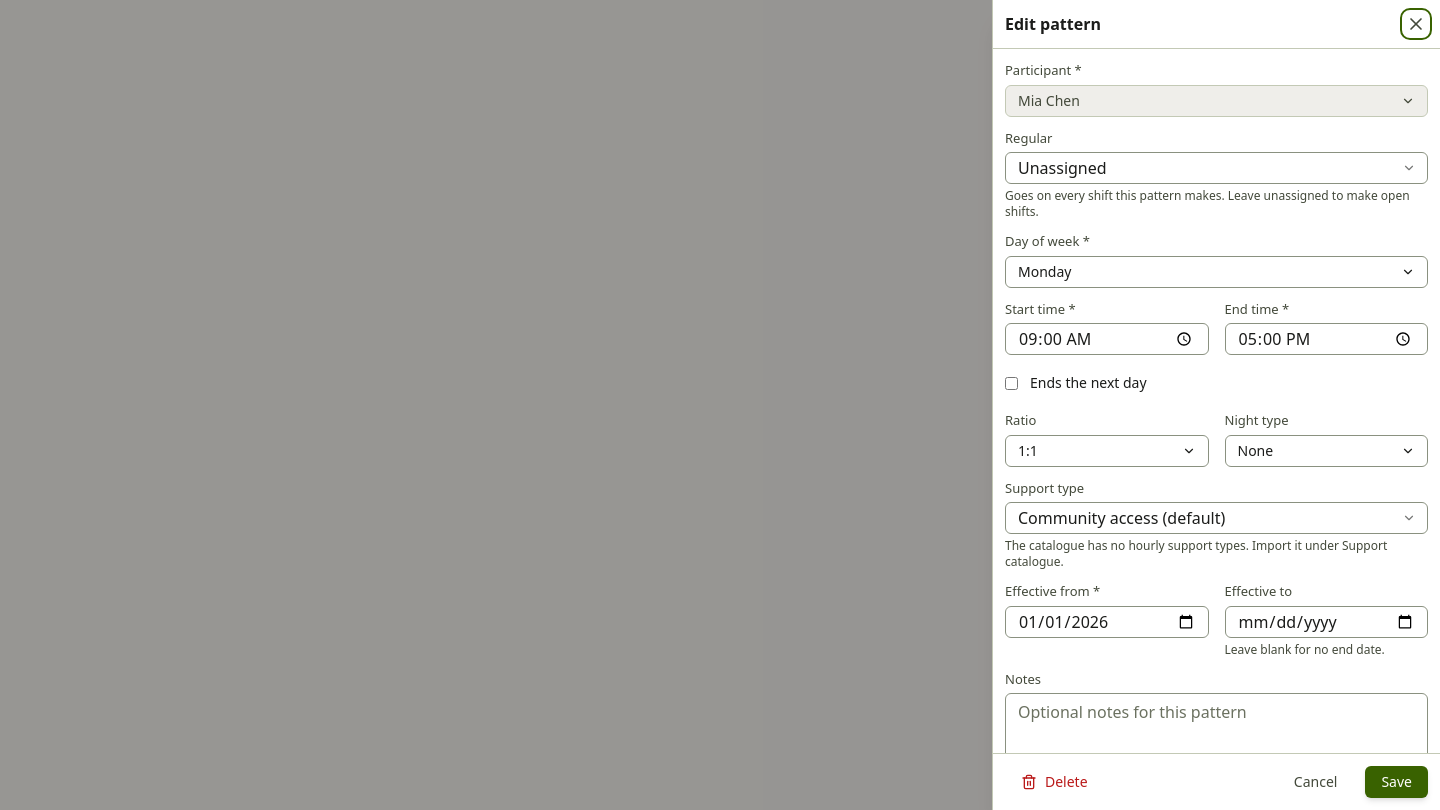
PatternSlideOver Default staff field — SearchableSelect (DS-01/UX-01 migration) › shows "Unassigned" as the first option and current value when no default staff is set
Click the dropdown labelled "Regular" at (1216, 168), box [1005,152,1428,184]
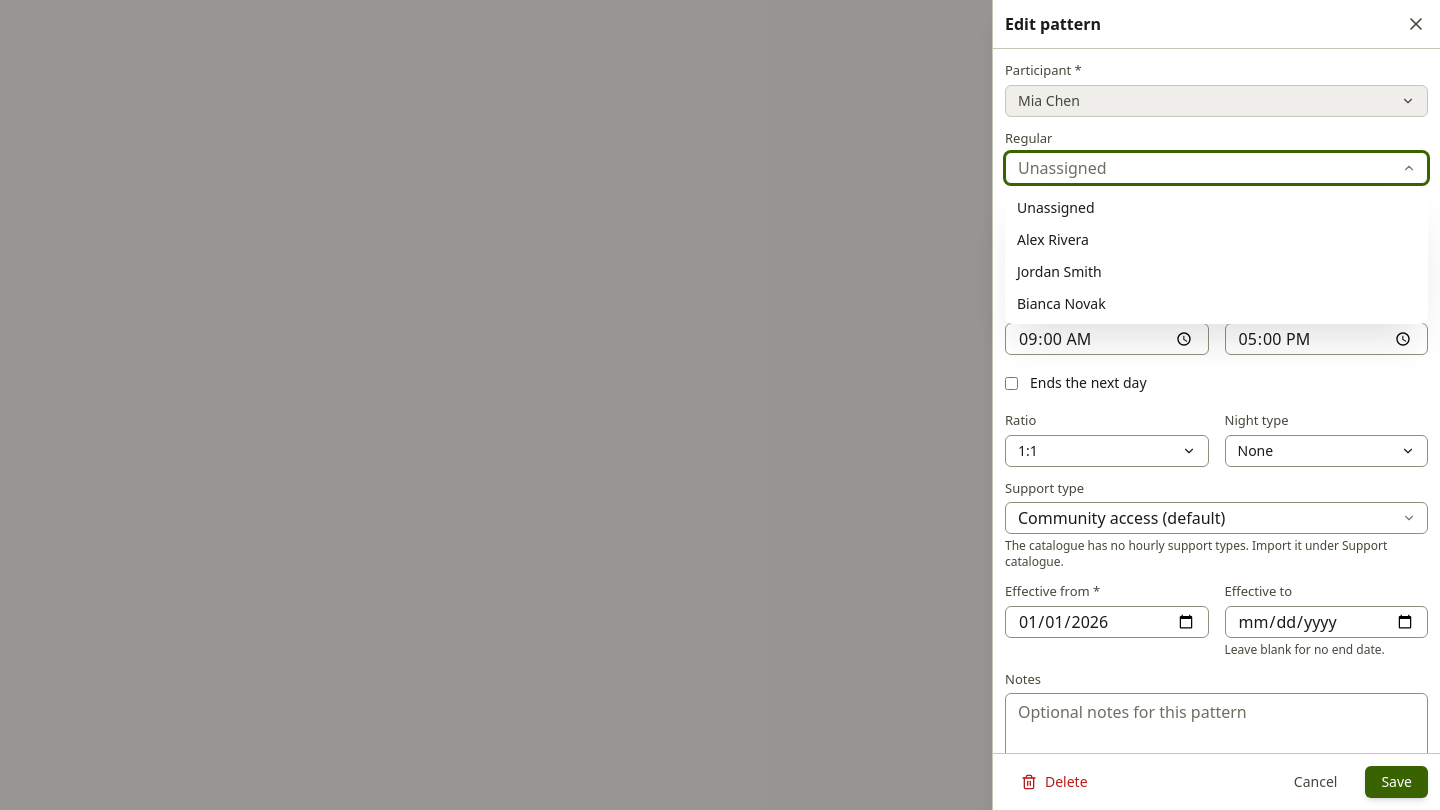
Now the option "Unassigned" is shown, box [1017,198,1094,217]
Now the number of options is 4, box [1017,198,1094,217]; [1017,230,1089,249]; [1017,262,1102,281]; [1017,294,1106,313]
